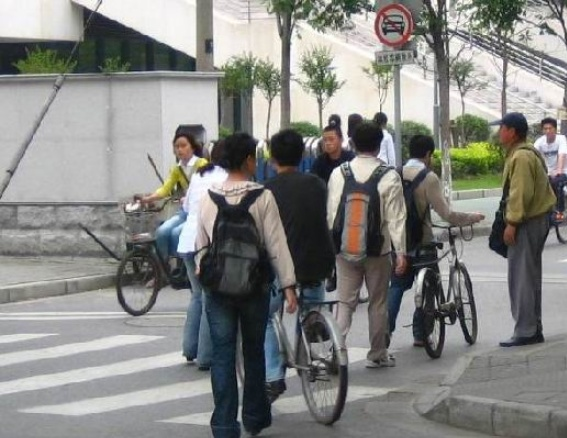person: (204, 127, 274, 438), (487, 107, 560, 353), (337, 125, 403, 373), (403, 131, 484, 275), (155, 126, 203, 288)
